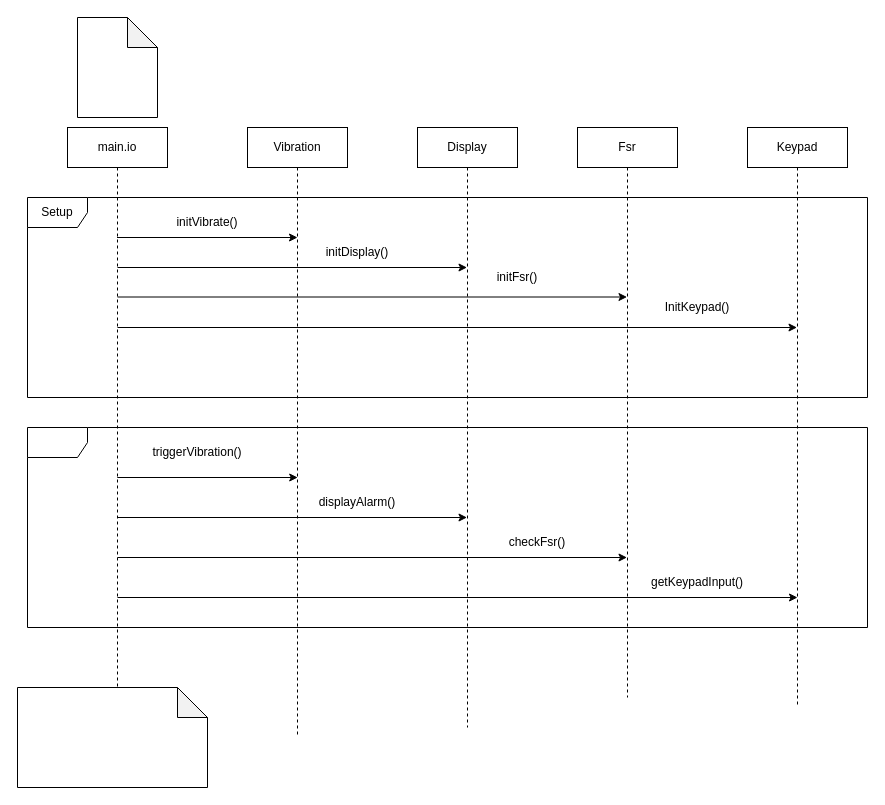
The diagram is 885 pixels wide and 805 high, and some of its shapes have lost their labels. The shapes that lost their labels are listed below. From the top down, each one's box as (x1, y1, x2, y2) in pixels, then its label:
(76, 16, 158, 118): only main.io compile to the system
(26, 426, 868, 628): loop
(16, 686, 208, 788): in the loop check whether the input get correctly
